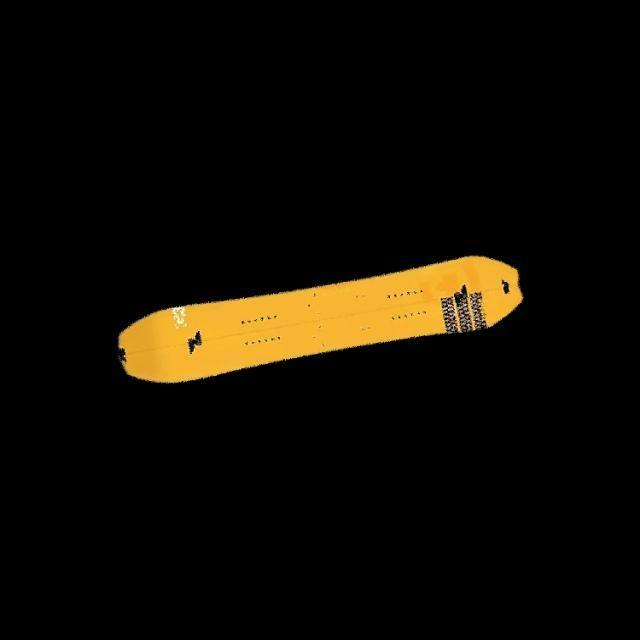Snowboard: (116, 253, 524, 384)
